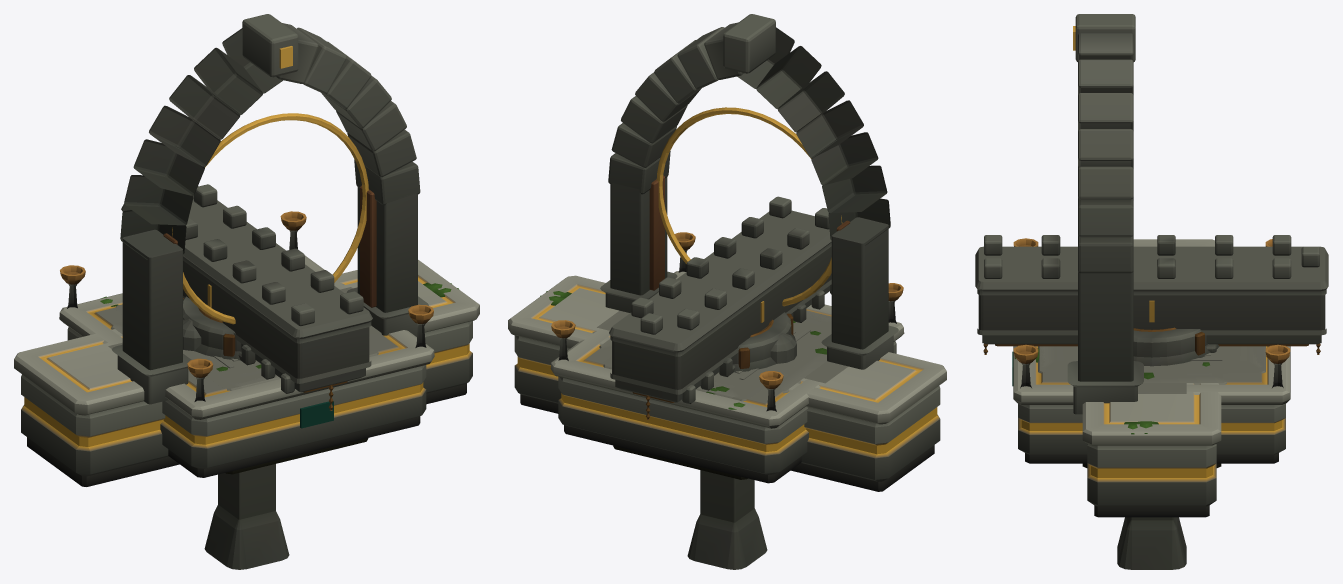
The model's file is temple-2-MoW0uZQ2.glb.
3 views of the same model, side by side, from view 1: azimuth 30°, elevation 25°; view 2: azimuth 150°, elevation 25°; view 3: azimuth 270°, elevation 25° (orthographic). The views are drawn at different scales.
Parts seen in each view (by area): view 1: portal_#0, pad_12x2x12#0, block_20x2x6#0, spout_2x13.4#0, support_0_square#0, geyserVent_3.9#0, block_8x2x10#0, block_7x2x10#0; view 2: portal_#0, spout_2x13.4#0, block_20x2x6#0, pad_12x2x12#0, support_0_square#0, block_8x2x10#0, geyserVent_3.9#0, block_7x2x10#0, block_10x2x7#0, beam_12x1.5x3#0, boltPost_#0; view 3: spout_2x13.4#0, portal_#0, block_20x2x6#0, pad_12x2x12#0, support_0_square#0, geyserVent_3.9#0, block_7x2x10#0, block_10x2x7#0, block_8x2x10#0, beam_12x1.5x3#0.
Boxes of the visible parts, <box> form: portal_#0: <box>111,14,428,404</box>; pad_12x2x12#0: <box>59,211,434,477</box>; block_20x2x6#0: <box>14,260,479,486</box>; spout_2x13.4#0: <box>121,184,372,410</box>; support_0_square#0: <box>204,464,289,569</box>; geyserVent_3.9#0: <box>183,296,241,360</box>; block_8x2x10#0: <box>115,304,378,474</box>; block_7x2x10#0: <box>194,352,298,471</box>; portal_#0: <box>600,14,898,369</box>; spout_2x13.4#0: <box>609,196,831,419</box>; block_20x2x6#0: <box>508,275,946,491</box>; pad_12x2x12#0: <box>550,232,904,483</box>; support_0_square#0: <box>687,470,767,569</box>; block_8x2x10#0: <box>603,310,831,479</box>; geyserVent_3.9#0: <box>732,312,795,372</box>; block_7x2x10#0: <box>624,311,831,476</box>; block_10x2x7#0: <box>599,323,831,393</box>; beam_12x1.5x3#0: <box>597,310,848,383</box>; boltPost_#0: <box>770,333,796,363</box>; spout_2x13.4#0: <box>975,235,1328,354</box>; portal_#0: <box>1067,14,1143,414</box>; block_20x2x6#0: <box>1082,239,1221,517</box>; pad_12x2x12#0: <box>1012,238,1290,463</box>; support_0_square#0: <box>1117,517,1186,569</box>; geyserVent_3.9#0: <box>1133,327,1219,366</box>; block_7x2x10#0: <box>1040,346,1265,368</box>; block_10x2x7#0: <box>1082,362,1229,467</box>; block_8x2x10#0: <box>1038,346,1265,373</box>; beam_12x1.5x3#0: <box>1138,373,1186,393</box>.
Size of the model in its own units: 20 by 25.59 by 15.3.
